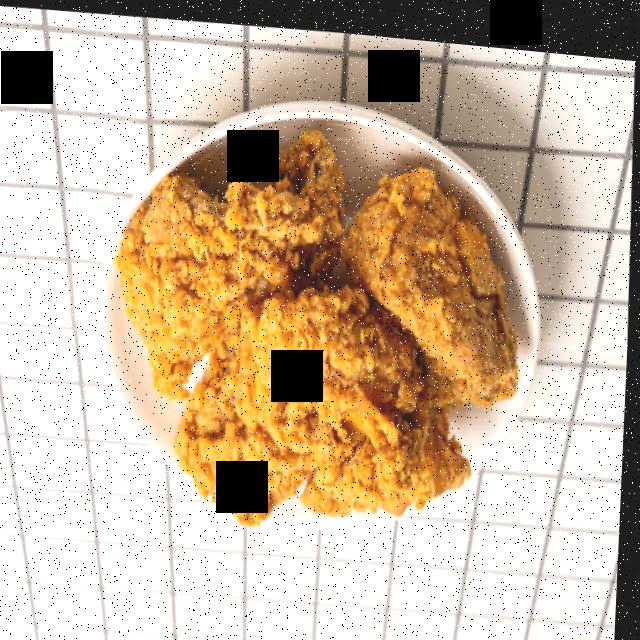Frango: (101, 103, 534, 545)
